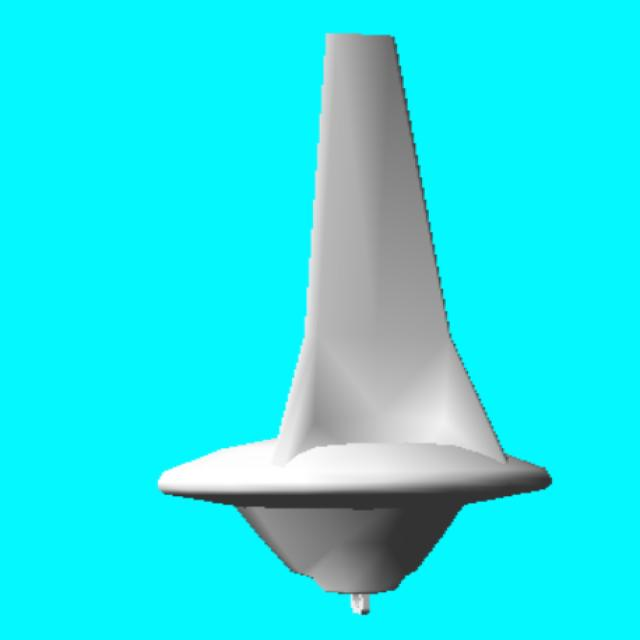WhiteBuoy: (157, 34, 552, 617)
